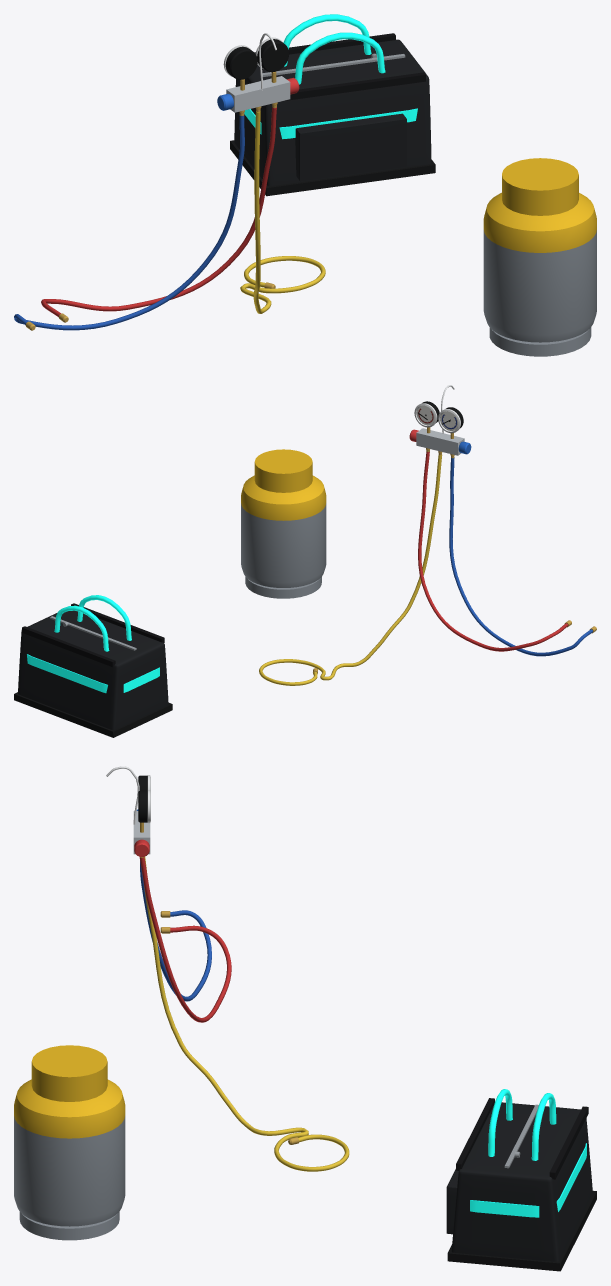
The model's file is jobsite-kit.glb.
The picture shows the model from 3 angles, top to bottom: view 1: azimuth 30°, elevation 25°; view 2: azimuth 150°, elevation 25°; view 3: azimuth 270°, elevation 25°; orthographic projection. The views are drawn at different scales.
Parts seen in each view (by area): view 1: bag, cylinder, manifold; view 2: bag, cylinder, manifold; view 3: bag, cylinder, manifold.
Boxes of the visible parts, <box> form: bag: <box>230,14,435,196</box>; cylinder: <box>483,158,596,356</box>; manifold: <box>14,33,325,330</box>; bag: <box>14,595,172,737</box>; cylinder: <box>241,449,326,598</box>; manifold: <box>259,385,596,685</box>; bag: <box>446,1089,596,1271</box>; cylinder: <box>14,1045,125,1240</box>; manifold: <box>106,766,349,1171</box>.
Size of the model in its own units: 1.75 by 0.9961 by 1.57.
Materials: 17 (2 with a texture image).
